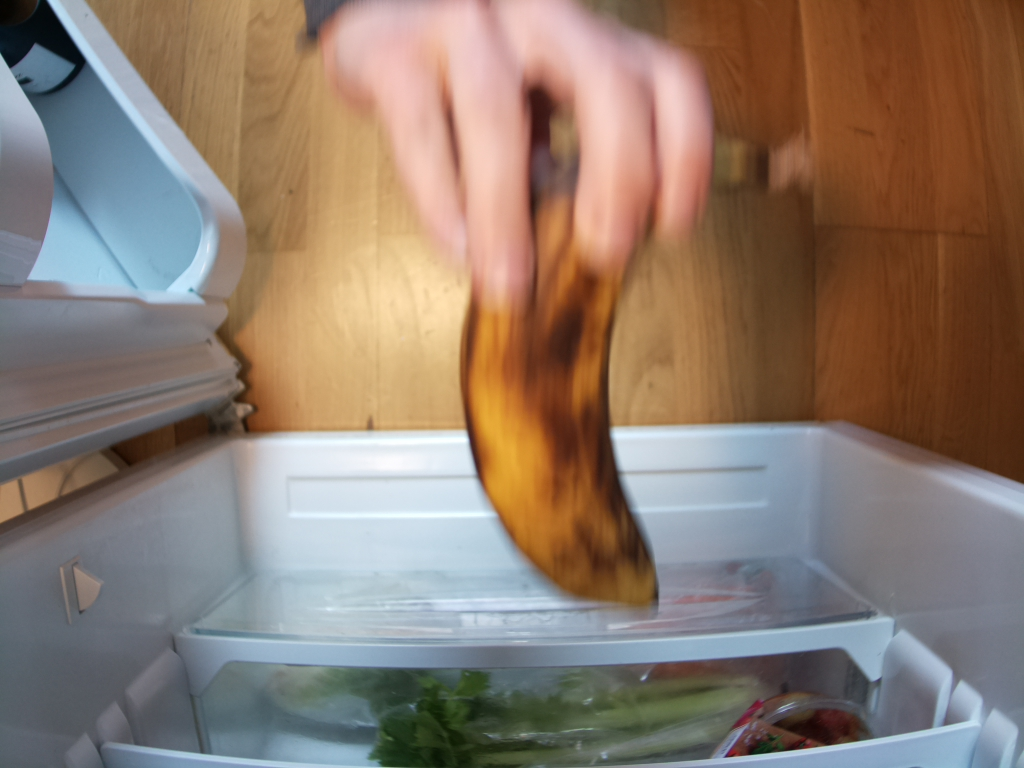banana-overripe: (459, 133, 808, 617)
